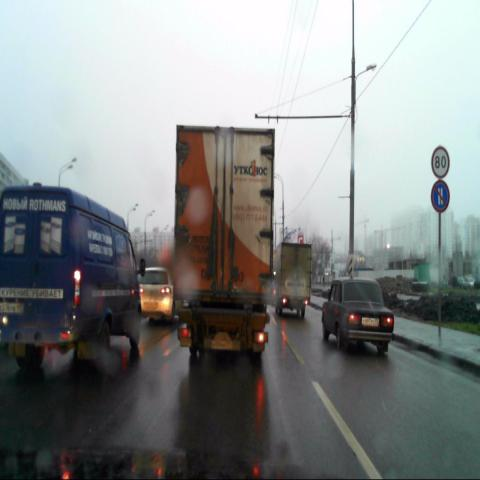3_30: (430, 180, 450, 212)
